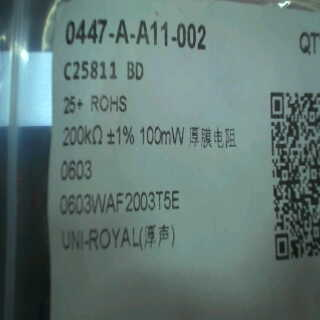200kR: (59, 121, 107, 149)
